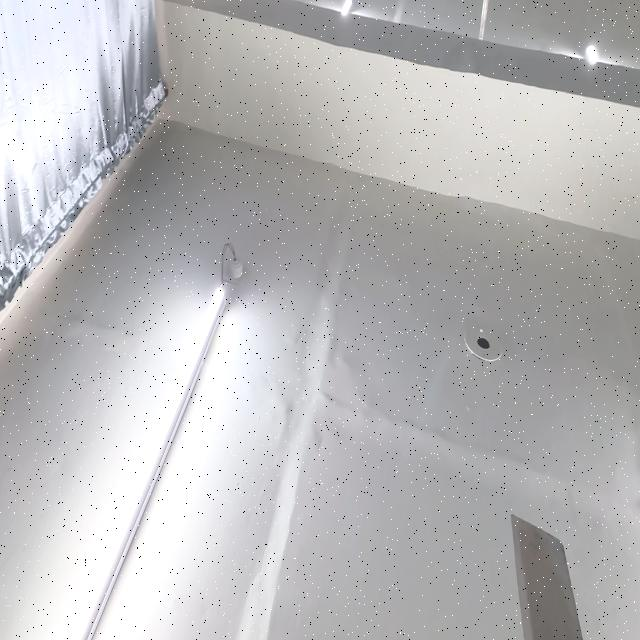Light: (66, 243, 241, 640), (586, 45, 598, 64), (341, 0, 352, 16)
